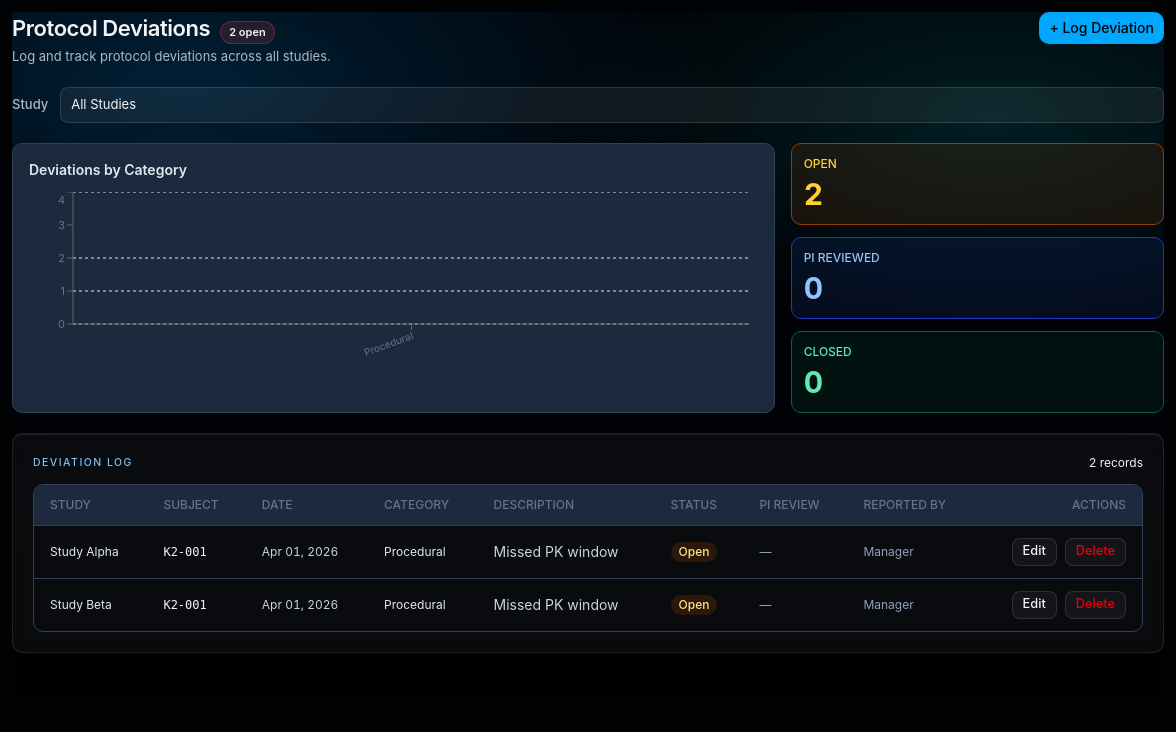
Test: Deviations — open count badge › open badge count reflects study filter
The image size is (1176, 732).
Expected: the text "2 open" is shown, [220,21,275,44]
// Filter to study-1 only: 1 open
Select "Study Alpha" in the dropdown named "filter by study" at (612, 104), box [60,86,1164,122]
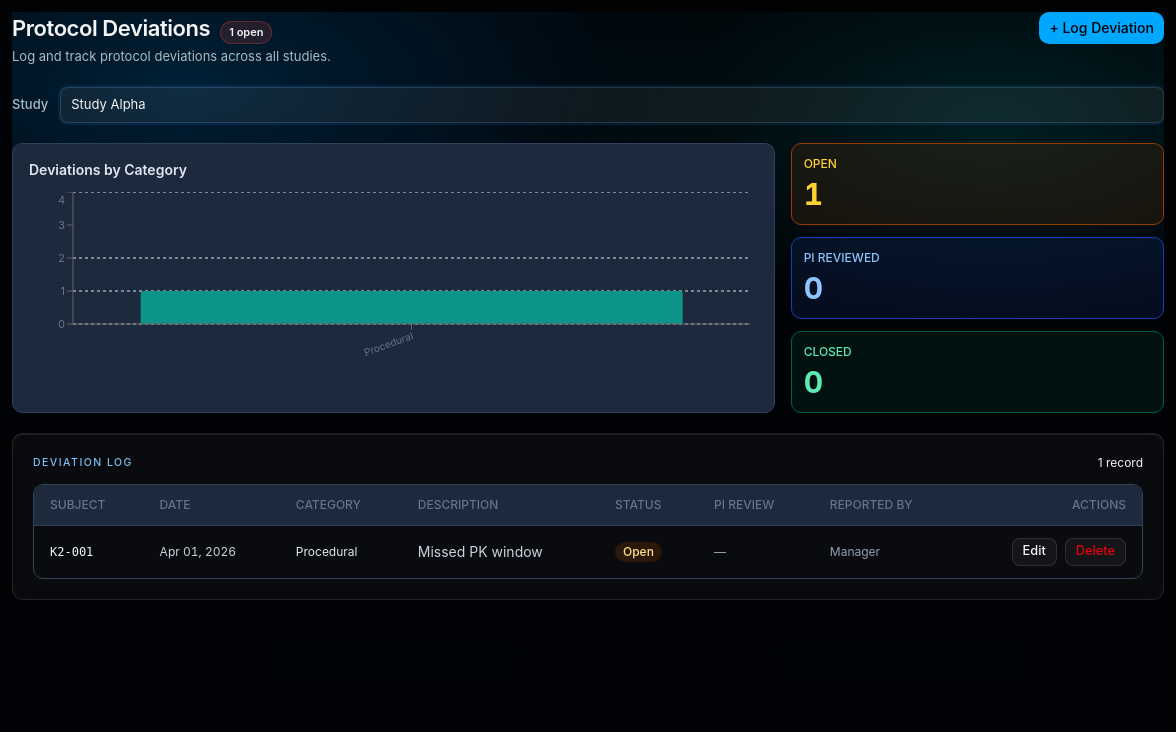
Expected: the text "1 open" is shown, [220,21,272,44]
